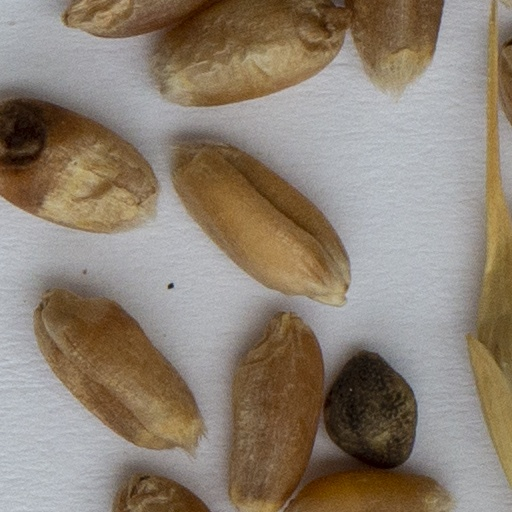Peel-poly: (468, 1, 511, 478)
